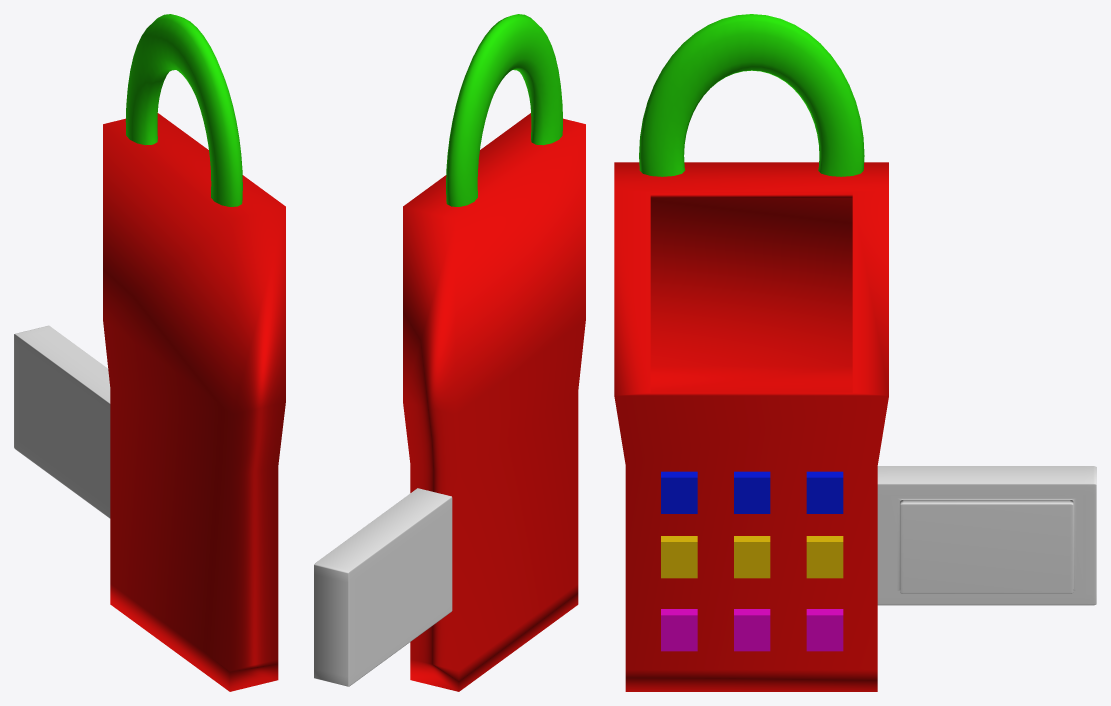
The model's file is Lock_3DModel.fbx.
3 views of the same model, side by side, from view 1: azimuth 30°, elevation 25°; view 2: azimuth 150°, elevation 25°; view 3: azimuth 270°, elevation 25° (orthographic). The views are drawn at different scales.
Parts seen in each view (by area): view 1: Cube, Cube.004, Torus; view 2: Cube, Cube.004, Torus; view 3: Cube, Cube.004, Torus, Cube.001, Cube.002, Cube.003.
Boxes of the visible parts, left/top/right/bottom form: Cube: left=103, top=113, right=285, bottom=691; Cube.004: left=14, top=325, right=110, bottom=518; Torus: left=125, top=14, right=242, bottom=206; Cube: left=403, top=113, right=585, bottom=691; Cube.004: left=314, top=488, right=452, bottom=686; Torus: left=446, top=14, right=562, bottom=206; Cube: left=614, top=162, right=888, bottom=691; Cube.004: left=877, top=466, right=1096, bottom=605; Torus: left=639, top=14, right=864, bottom=176; Cube.001: left=661, top=471, right=843, bottom=513; Cube.002: left=661, top=536, right=843, bottom=578; Cube.003: left=661, top=609, right=843, bottom=651.
Size of the model in its own units: 95.97 by 917 by 607.
